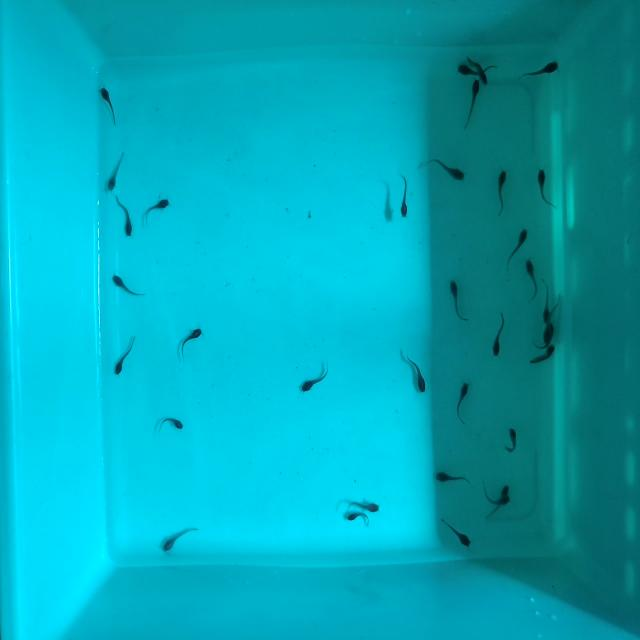lele: (425, 152, 468, 186), (438, 513, 474, 552), (159, 520, 199, 555), (446, 274, 471, 326), (112, 332, 138, 379), (504, 224, 531, 269), (461, 77, 482, 133), (104, 146, 128, 194), (405, 350, 430, 395), (97, 83, 122, 127), (533, 166, 556, 213), (517, 58, 562, 82), (299, 365, 333, 396), (477, 483, 512, 511), (110, 271, 143, 300), (487, 483, 511, 521), (114, 195, 135, 238), (454, 379, 472, 428), (488, 312, 506, 361), (143, 193, 172, 223), (176, 323, 204, 354), (466, 54, 492, 87), (523, 254, 541, 300), (532, 342, 558, 369), (156, 410, 186, 433), (432, 470, 472, 487), (495, 168, 508, 219), (398, 168, 410, 220), (502, 423, 519, 457), (541, 274, 550, 326), (346, 499, 380, 512), (452, 61, 477, 78), (539, 322, 554, 345), (345, 512, 371, 522)
